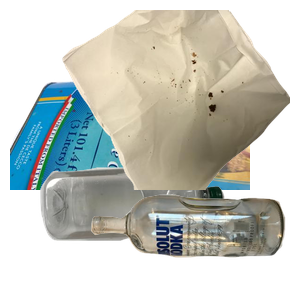glass: (88, 192, 300, 300)
metal: (10, 64, 250, 244)
plastic: (38, 165, 255, 300)
trash: (60, 10, 300, 190)
